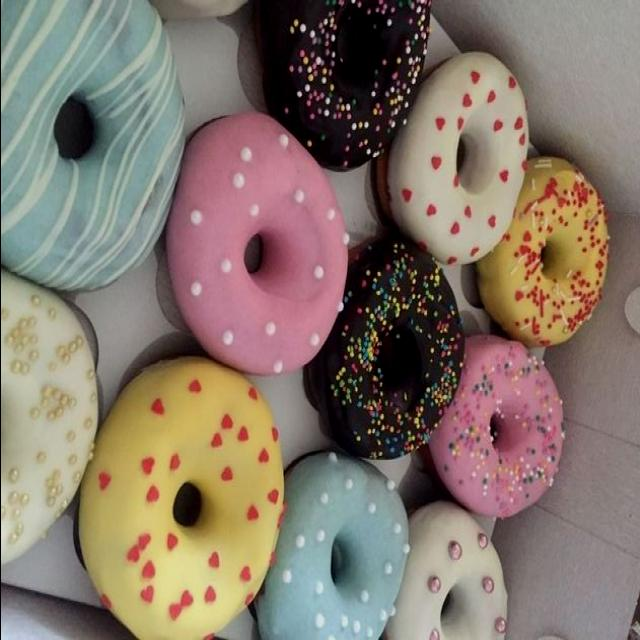donat: (72, 356, 284, 640), (301, 237, 461, 463), (382, 51, 529, 269), (246, 0, 429, 173), (472, 154, 609, 350), (421, 330, 562, 520)
